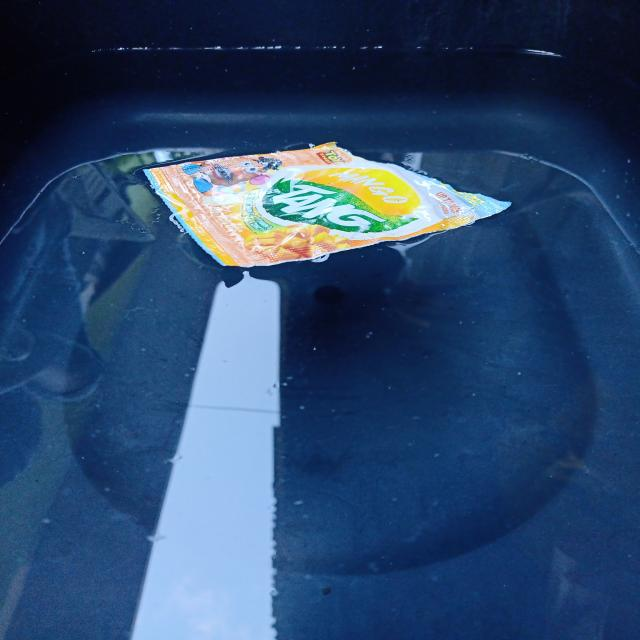Plastic Wrapper: (122, 133, 521, 282)
